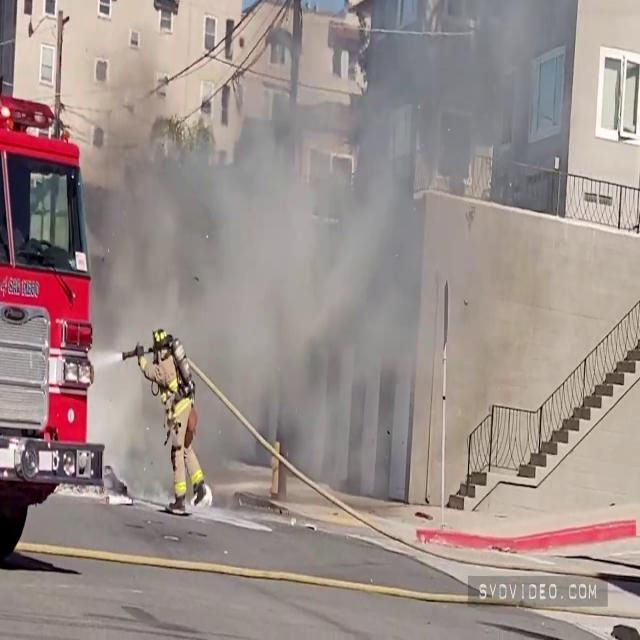Smoke: (93, 37, 423, 483)
